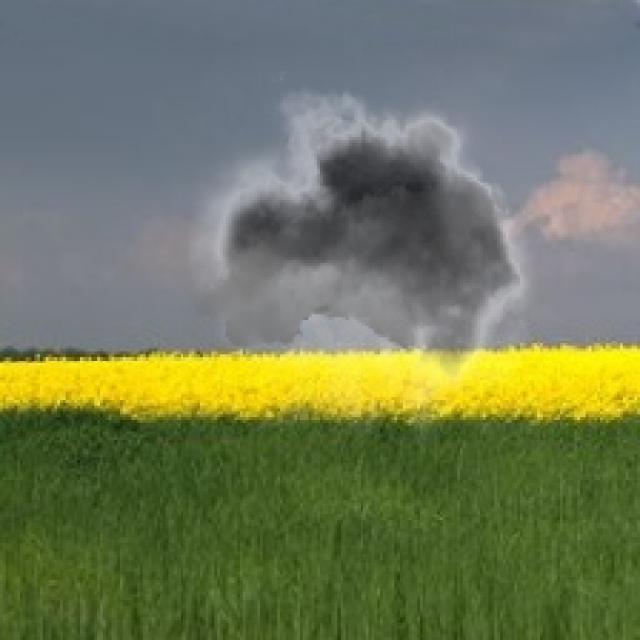Smoke: (188, 71, 552, 448)
